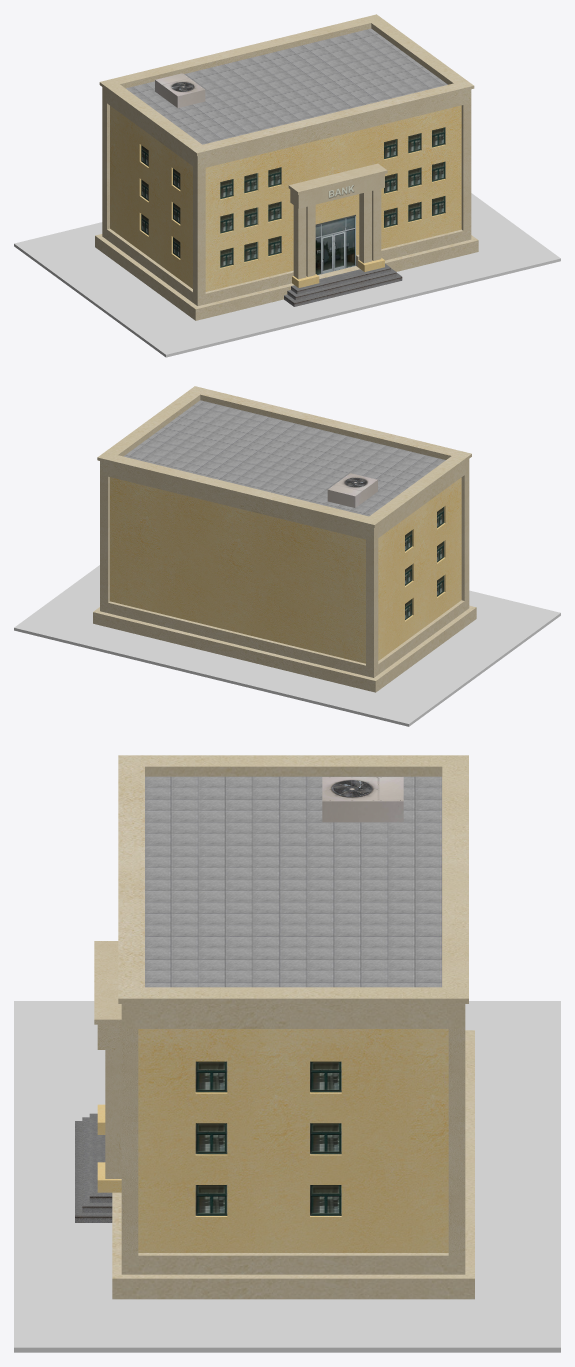
Rendered from finsim.glb.
3 views of the same model, one above another, from view 1: azimuth 30°, elevation 25°; view 2: azimuth 150°, elevation 25°; view 3: azimuth 270°, elevation 25° (orthographic). The views are drawn at different scales.
Visible parts, largest first — view 1: finsim, slate; view 2: finsim, slate; view 3: finsim, slate.
Boxes of the visible parts, x1,y1,x2,y2 form: finsim: [95, 14, 478, 320]; slate: [14, 193, 560, 357]; finsim: [93, 386, 476, 692]; slate: [14, 565, 560, 726]; finsim: [75, 755, 474, 1299]; slate: [14, 1001, 560, 1352].
Size of the model in its own units: 3 by 1.27 by 2.
Materials: 1 (1 with a texture image).
